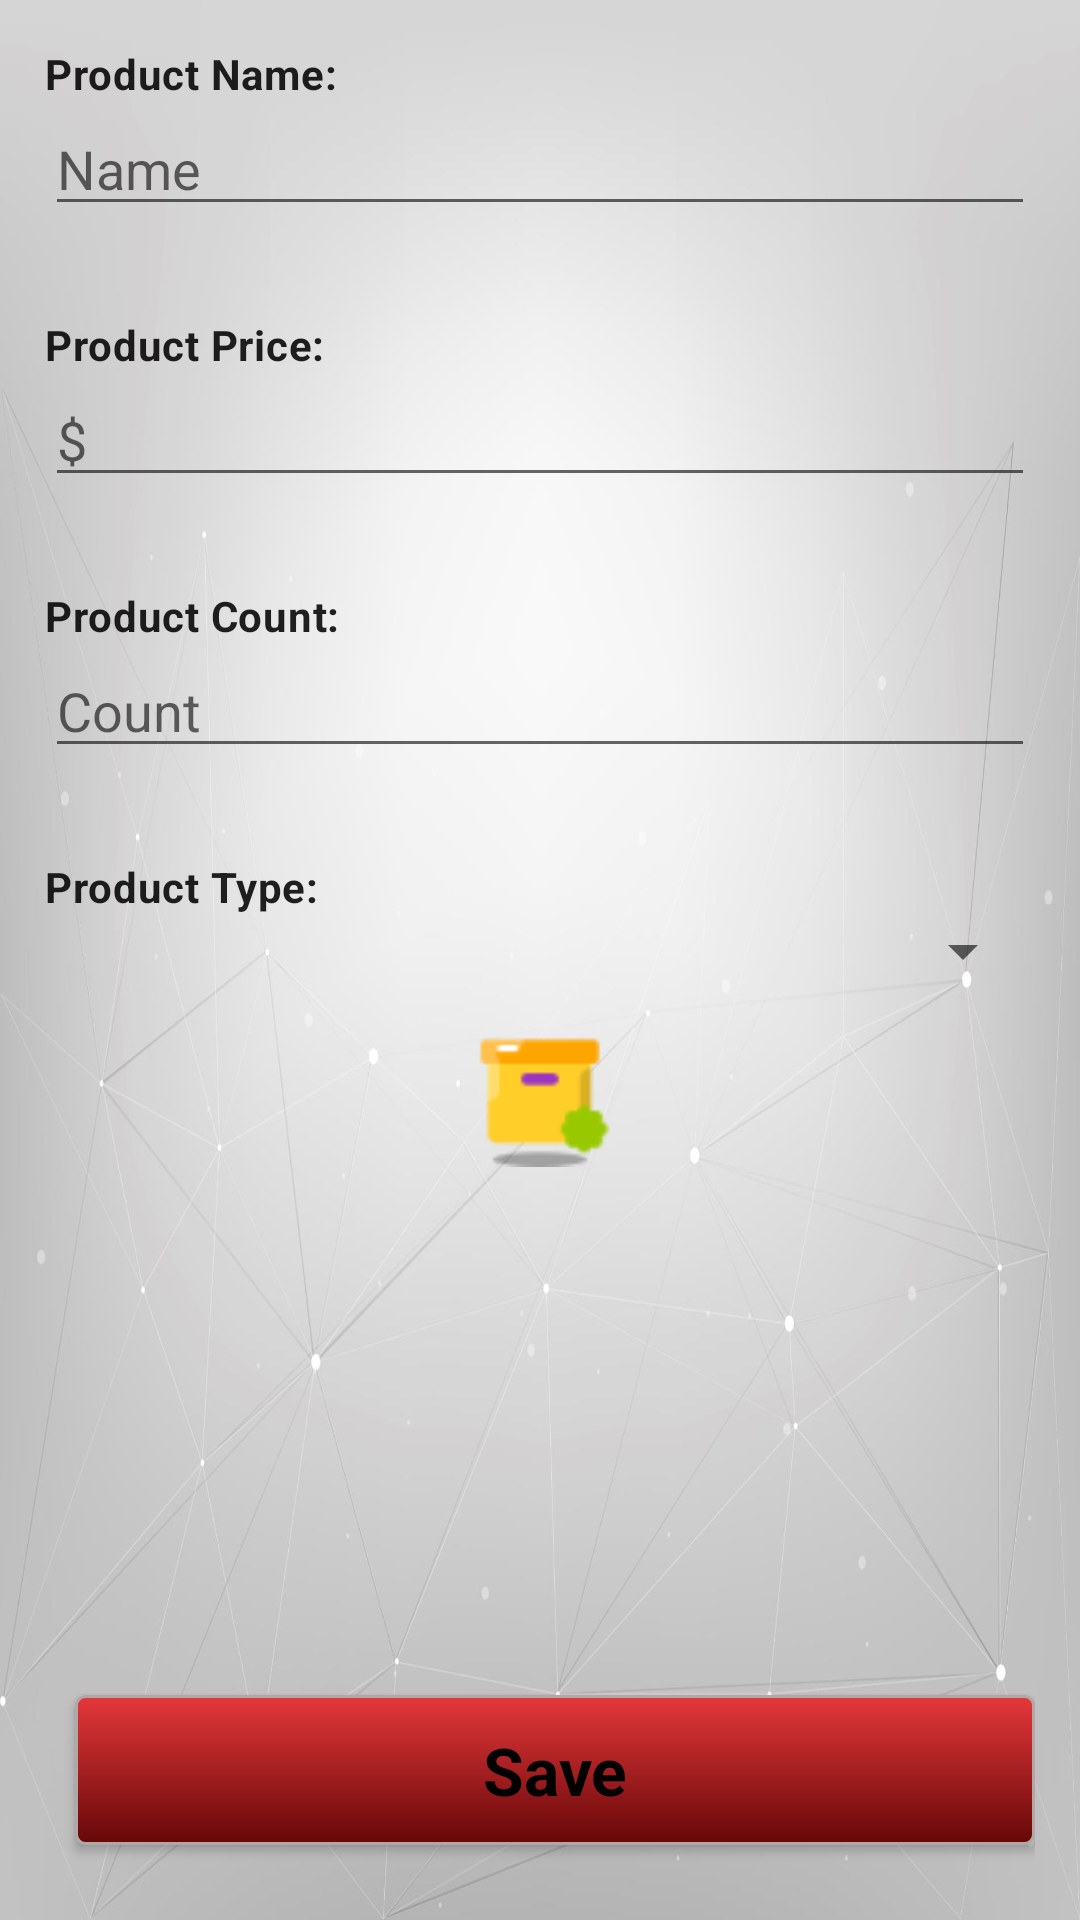

Where icons sit on this 1080×1920 app screen, as (x1, y1, x2, y2):
product other: (480, 1038, 610, 1167)
